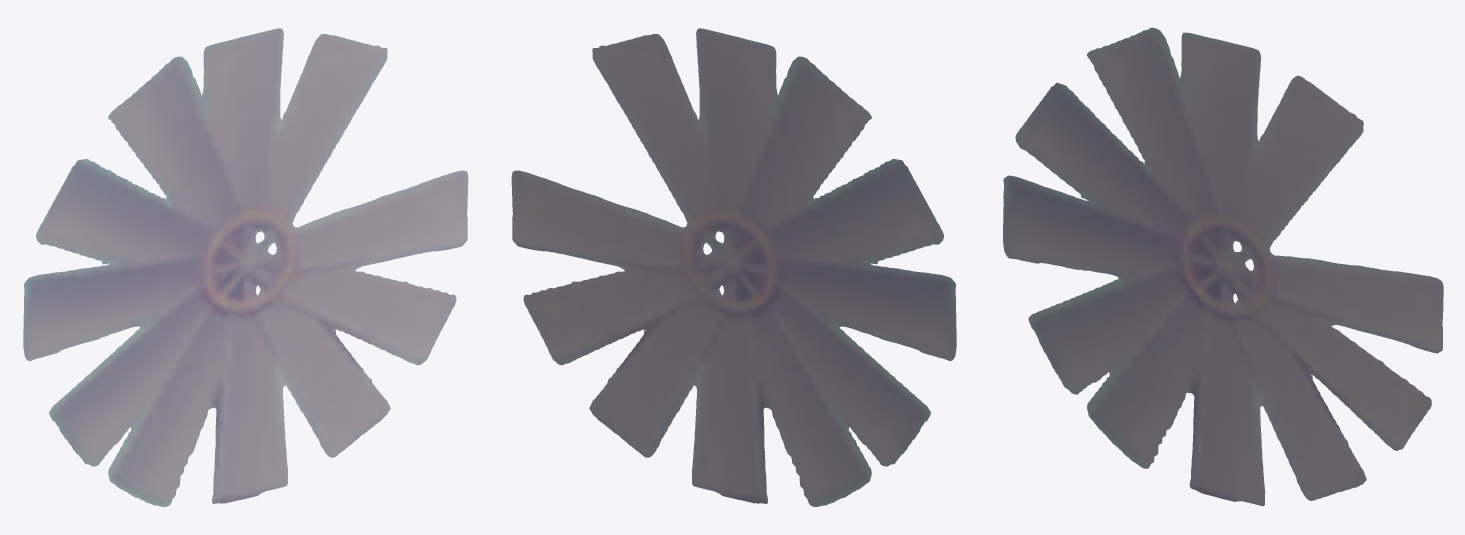
Rendered from pref_sm_sce_080705_windmill01_lv3.fbx.
3 views of the same model, side by side, from view 1: azimuth 30°, elevation 25°; view 2: azimuth 150°, elevation 25°; view 3: azimuth 330°, elevation 25° (orthographic).
Visible parts, largest first — view 1: sm_sce_080705_background05_windmill_lv3; view 2: sm_sce_080705_background05_windmill_lv3; view 3: sm_sce_080705_background05_windmill_lv3.
Part boxes in pixels (box(x1,y1,x2,y2)): sm_sce_080705_background05_windmill_lv3: box(23, 28, 468, 506); sm_sce_080705_background05_windmill_lv3: box(511, 28, 956, 506); sm_sce_080705_background05_windmill_lv3: box(1003, 27, 1443, 505).
Size of the model in its own units: 1.67 by 1.73 by 4.11e-07.
